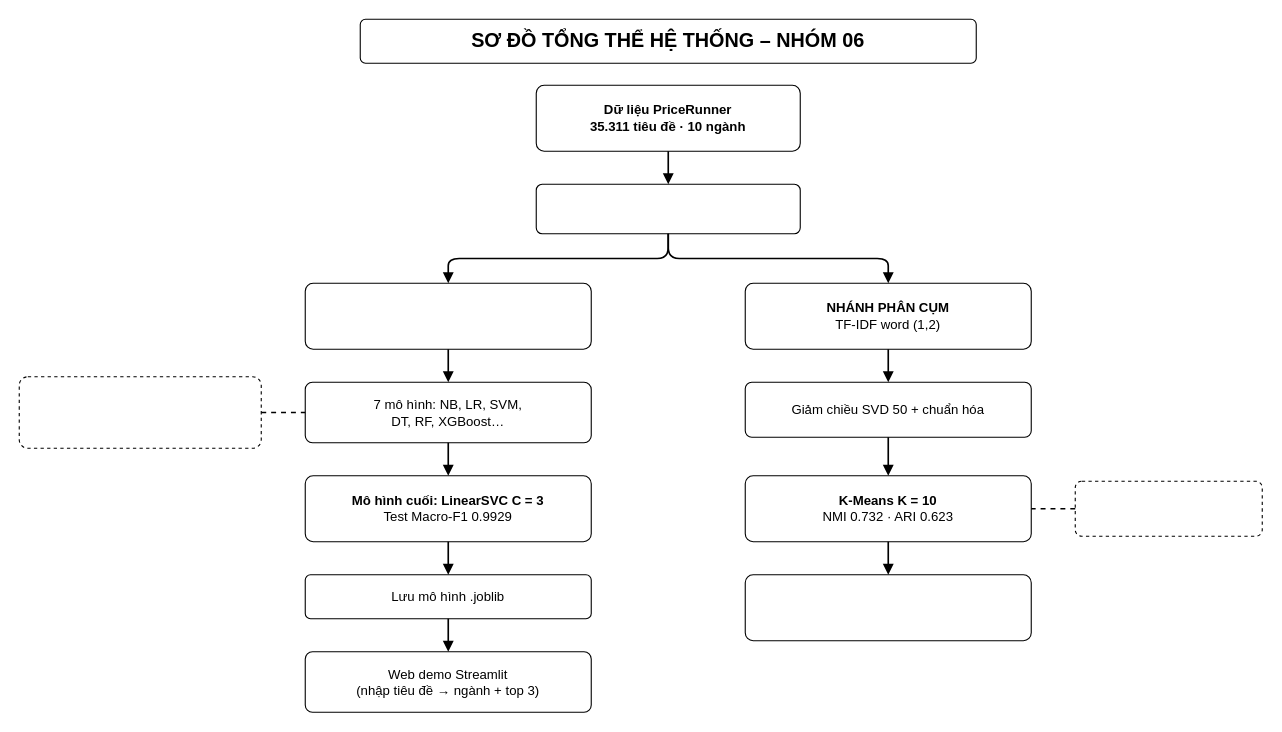
This 1282x732 diagram has some shape labels left out. Here are the shapes that lost their labels. From the top down, the centre of each, then its label:
At point (667, 208): "Làm sạch tiêu đề (clean_title)".
At point (447, 315): "NHÁNH PHÂN LOẠI TF-IDF word (1,2) + char (2,4)".
At point (139, 412): "Đánh giá: Stratified 80/20 · 5-fold CV · Group split theo Cluster ID".
At point (1168, 508): "t-SNE (chỉ để quan sát)".
At point (887, 607): "So sánh: Agglomerative 0.653 DBSCAN 0.554 · HDBSCAN 0.533".
